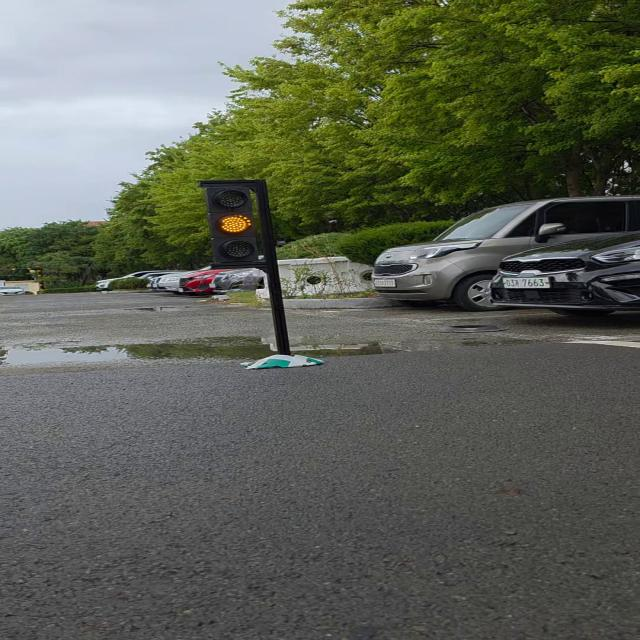yellow: (203, 181, 268, 267)
